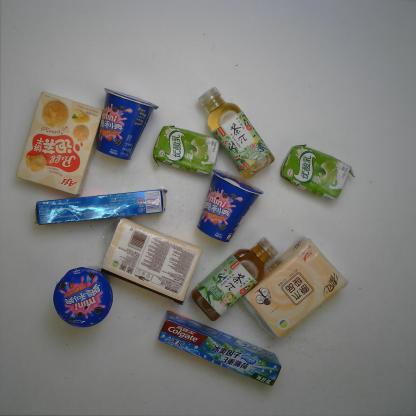Dessert: (16, 89, 104, 194), (197, 172, 265, 242), (94, 86, 158, 160), (50, 265, 114, 330)
Drink: (191, 230, 281, 326), (198, 84, 275, 181)
Milk: (279, 144, 356, 204), (152, 123, 221, 181)
Personal Hygiene: (152, 310, 283, 388), (26, 187, 167, 227)
Tissue: (240, 236, 350, 338), (99, 219, 201, 306)
